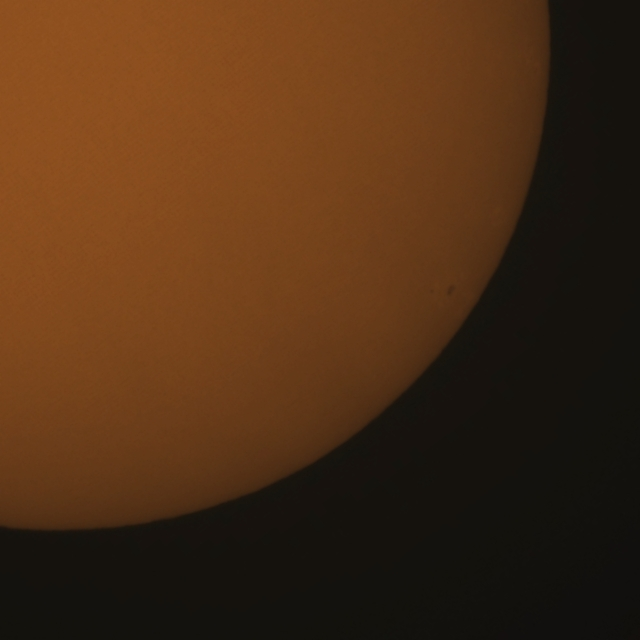sunspot: (430, 282, 456, 299), (445, 282, 457, 298)
